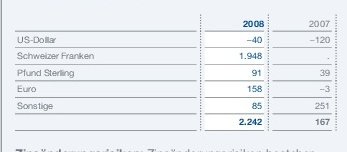table: (0, 0, 347, 152)
